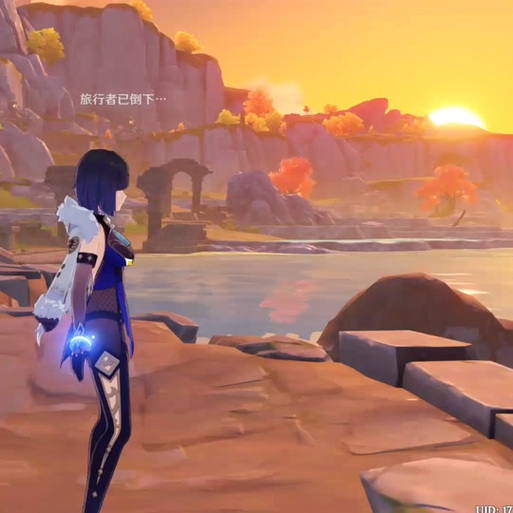夜兰: (43, 141, 161, 513)
